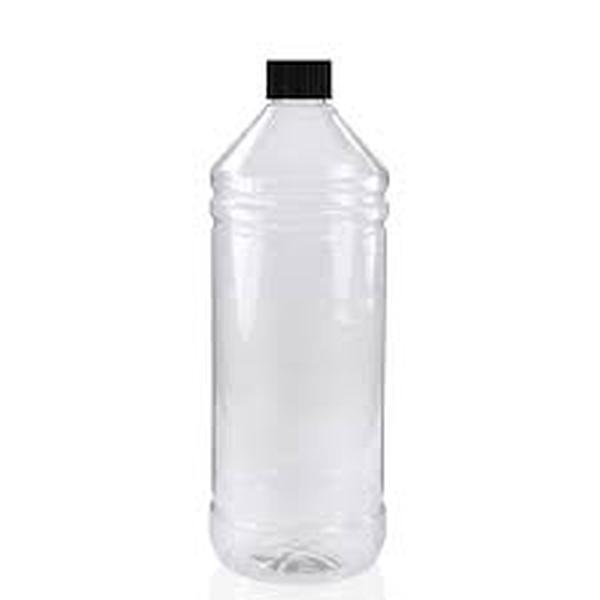tutuma: (199, 42, 405, 585)
